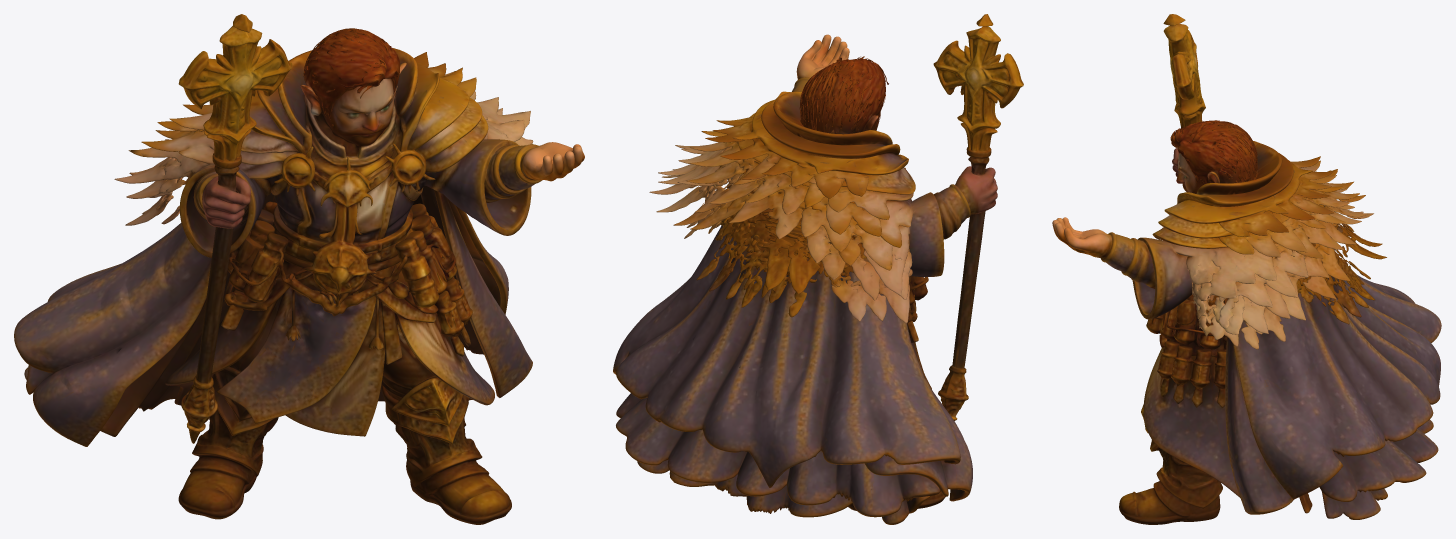
The model's file is halfling_cleric_full_male_01.glb.
The picture shows the model from 3 angles, left to right: view 1: azimuth 30°, elevation 25°; view 2: azimuth 150°, elevation 25°; view 3: azimuth 270°, elevation 25°; orthographic projection. The views are drawn at different scales.
Visible parts, largest first — view 1: material; view 2: material; view 3: material.
Boxes of the visible parts, <box> form: material: <box>14,14,584,524</box>; material: <box>613,14,1023,524</box>; material: <box>1052,14,1441,524</box>.
Size of the model in its own units: 0.8374 by 0.9742 by 0.8209.
Materials: 1 (1 with a texture image).
